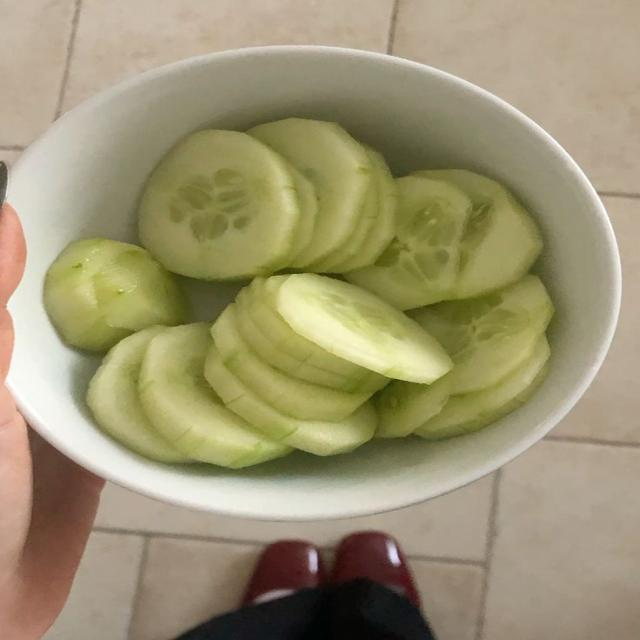cucumber sliced: (140, 130, 299, 279), (139, 323, 290, 468), (205, 346, 377, 456), (277, 275, 452, 383), (212, 305, 372, 421), (248, 119, 371, 266), (412, 275, 553, 394), (347, 177, 472, 309), (415, 170, 542, 298), (44, 239, 187, 351), (415, 336, 549, 439), (87, 327, 188, 462), (247, 276, 367, 383), (236, 289, 352, 390), (310, 145, 397, 272), (335, 147, 397, 272), (307, 181, 379, 273), (375, 374, 451, 437), (287, 164, 318, 267)
